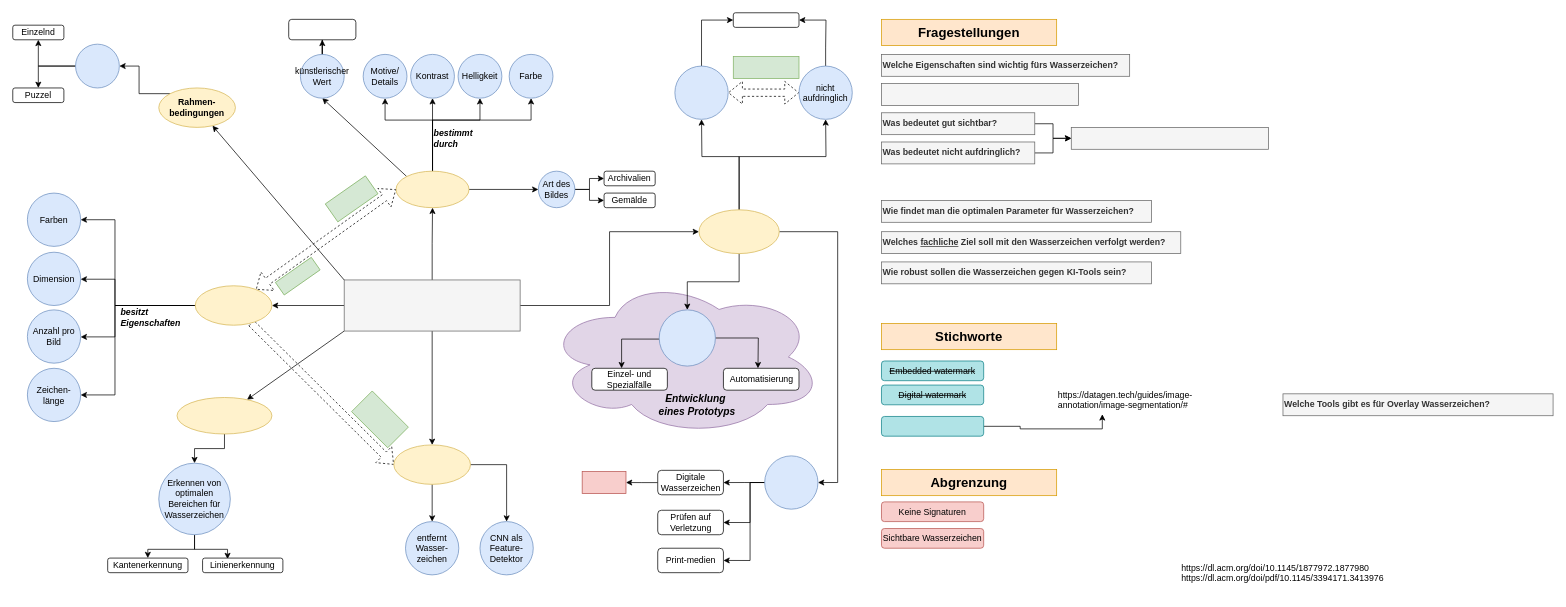
This 1566x607 diagram has some shape labels left out. Each missing label, with the centre of its shape:
Adaptive Wasserzeichen Lucas Cranach: pixel 431 305
angepasst an: pixel 351 198
Aspekte der Problemstellung: pixel 738 231
bestimmt: pixel 297 275
gegensätzlich: pixel 766 67
gut sichtbar: pixel 701 92
Heterogenität des Bildes: pixel 432 189
Image Segmentation: pixel 932 426
KI: pixel 431 464
Massen-bearbeitung: pixel 686 337
Mund von Mona Lisa: pixel 322 29
Robustheit gegen: pixel 380 419
Subjektivität: pixel 766 19
unsichtbar: pixel 603 482
Urheberrecht: pixel 791 482
Verfüg-barkeit: pixel 97 65
Visual Computing: pixel 224 415
Wasserzeichen: pixel 233 305
Welche Eigenschaften bestimmten das Bild?: pixel 980 94
Wie kann man dies objektivieren?: pixel 1169 138
